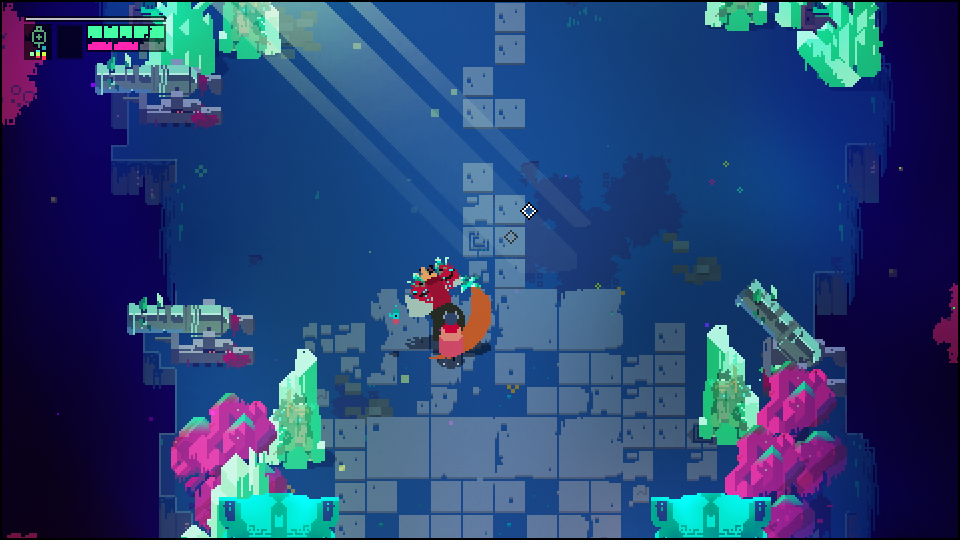hanged_man: (390, 266, 490, 331)
player: (439, 314, 463, 362)
